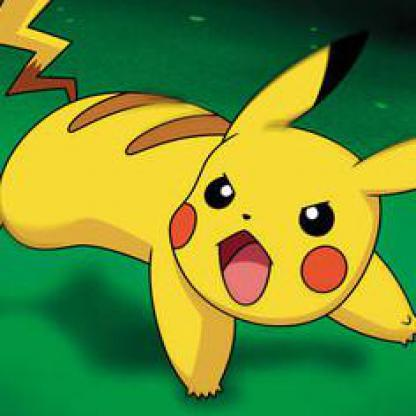Pikachu: (1, 13, 415, 415)
